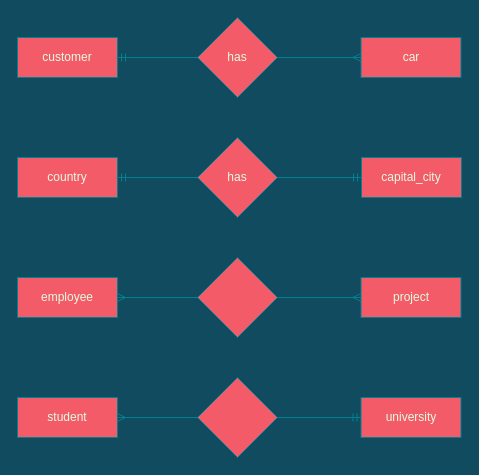
This 479x475 diagram has some shape labels left out. The shapes that lost their labels are listed below. From the top down, each one's centre as x and y in pixels, then its label:
At (x=237, y=297): "works on".
At (x=237, y=417): "study".
